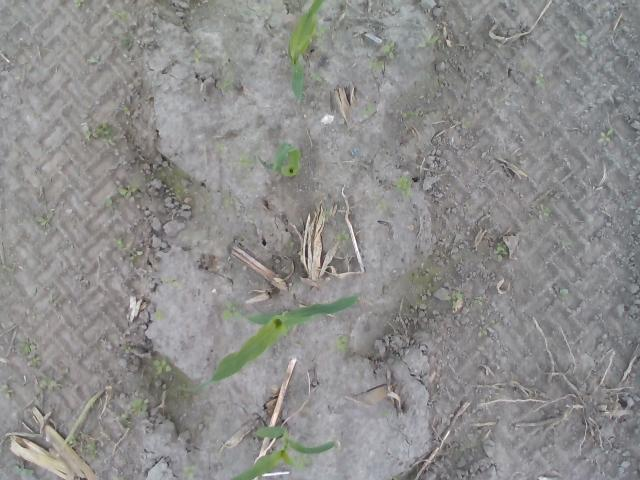Maize: (191, 294, 360, 394), (228, 422, 338, 480), (286, 0, 324, 106), (256, 141, 302, 178)
Weeds: (15, 335, 41, 365), (391, 174, 414, 201), (81, 126, 113, 144), (35, 374, 62, 393), (116, 182, 146, 199), (222, 297, 242, 320), (150, 357, 174, 376), (415, 32, 440, 50), (33, 208, 55, 226), (382, 39, 398, 62), (594, 128, 614, 146), (130, 399, 150, 417), (366, 56, 386, 72), (110, 8, 129, 24), (335, 334, 351, 353), (238, 150, 256, 166), (360, 102, 378, 117), (0, 383, 15, 401), (400, 111, 420, 124), (112, 412, 130, 426), (334, 228, 353, 241), (444, 290, 464, 302), (574, 31, 588, 48), (87, 439, 98, 460), (128, 247, 144, 261), (536, 203, 552, 217), (162, 277, 182, 288), (375, 199, 393, 211), (191, 46, 202, 64), (15, 465, 33, 476), (494, 241, 508, 255), (173, 188, 189, 200), (102, 194, 114, 210), (222, 77, 234, 92), (153, 309, 168, 321), (182, 464, 194, 479), (536, 73, 546, 90), (120, 31, 130, 48), (296, 454, 311, 465), (471, 294, 484, 306), (0, 264, 17, 273), (520, 59, 530, 73), (67, 433, 79, 444), (477, 326, 488, 338), (560, 239, 576, 247), (310, 70, 321, 81), (110, 474, 130, 480), (116, 239, 126, 250), (463, 118, 473, 128), (322, 207, 332, 217), (118, 103, 129, 112), (224, 196, 232, 208), (176, 384, 188, 392), (87, 56, 98, 64), (72, 0, 81, 9), (560, 287, 568, 297), (254, 281, 264, 289), (216, 143, 225, 151), (390, 475, 400, 480)
